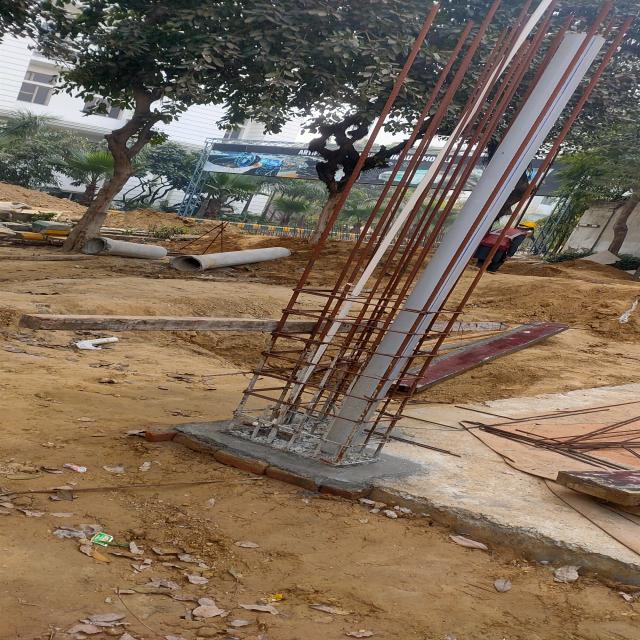safe: (480, 219, 538, 274)
